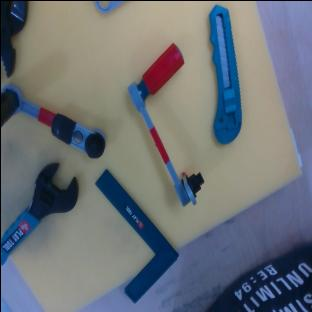non_pass: (0, 81, 112, 166)
pass: (121, 42, 207, 212)
